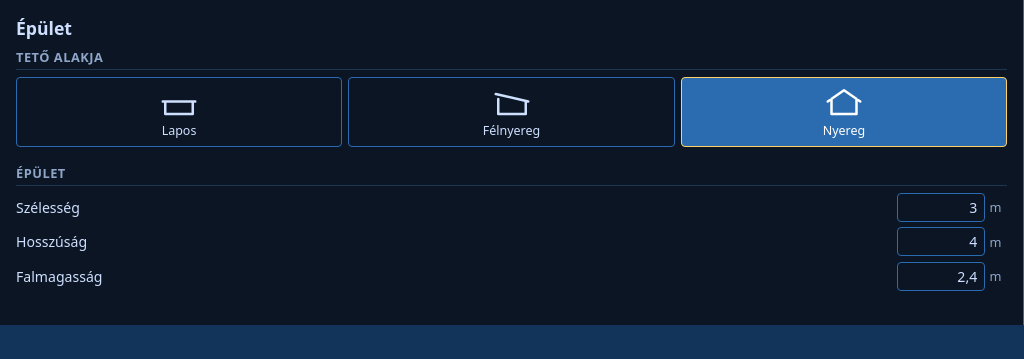
invalid text is flagged and does not change the plan
Replace the text in the field labelled "Szélesség m" with "abc" at (941, 207), box [897, 193, 985, 222]
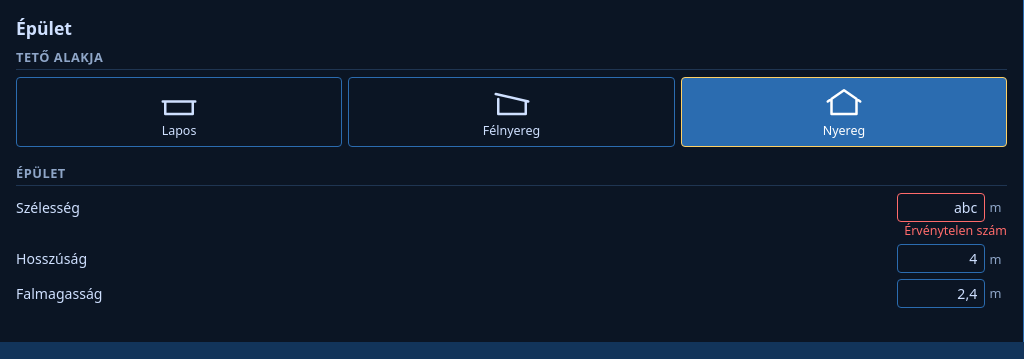
Check: the text "Érvénytelen szám" is shown, box [904, 222, 1007, 239]
